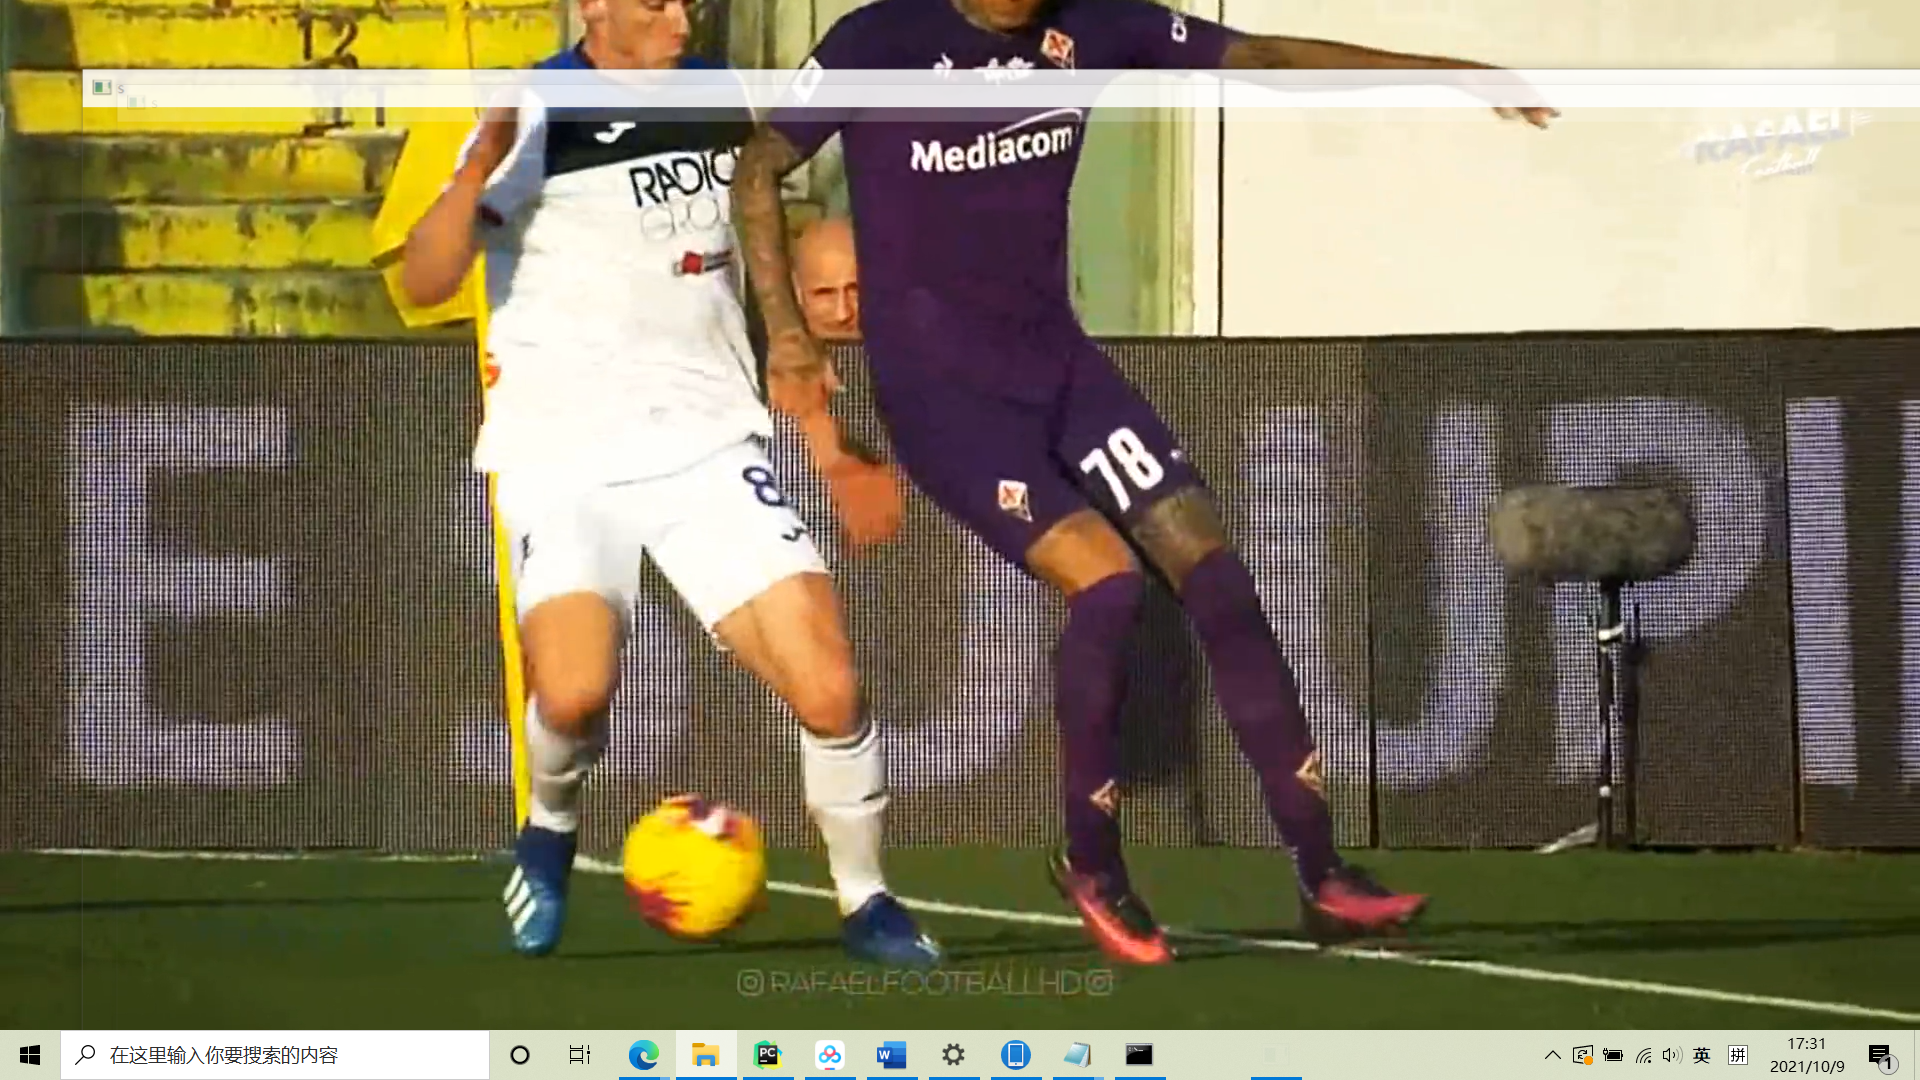ft: (607, 781, 775, 942)
